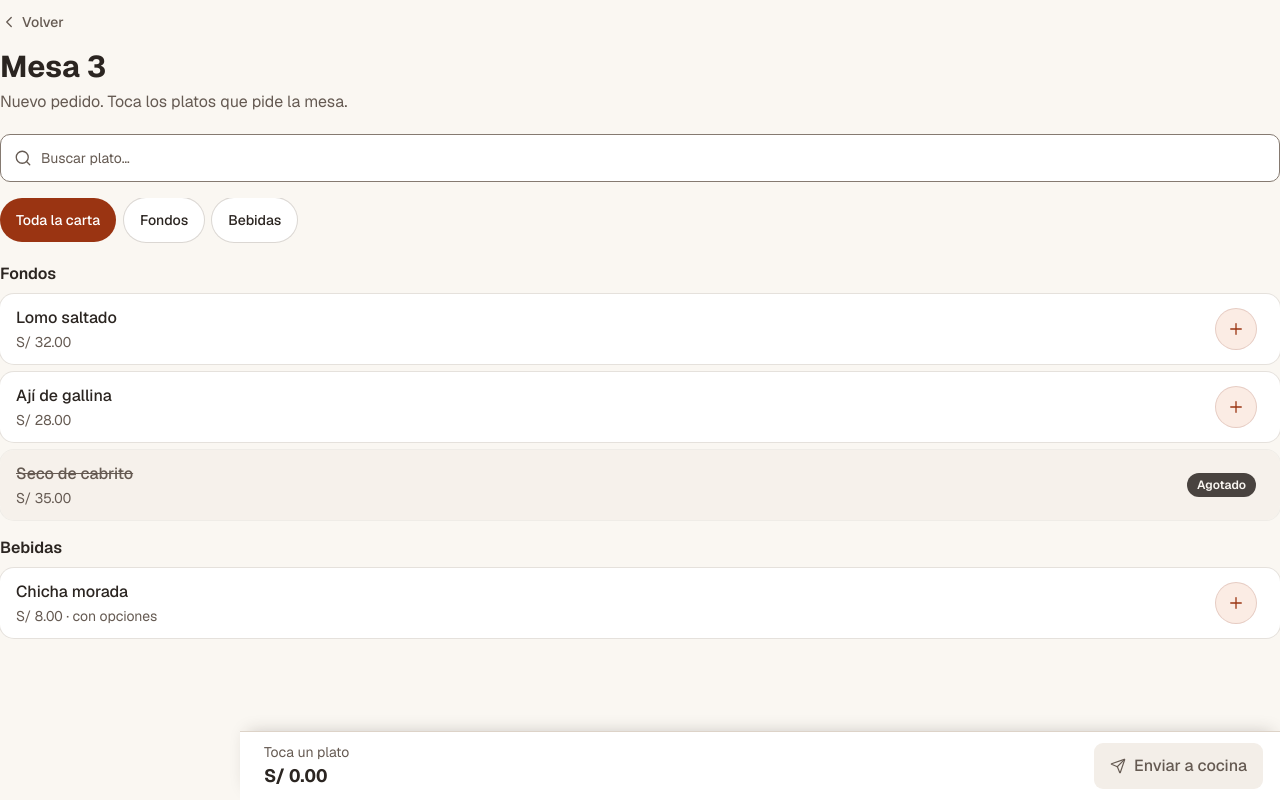
Test case: tomar un pedido en una mesa › sin señal, el pedido queda guardado en el celular para enviarse solo
Click the button "Lomo saltado S/ 32.00". click: (66, 317)
box: [0,294,1272,364]
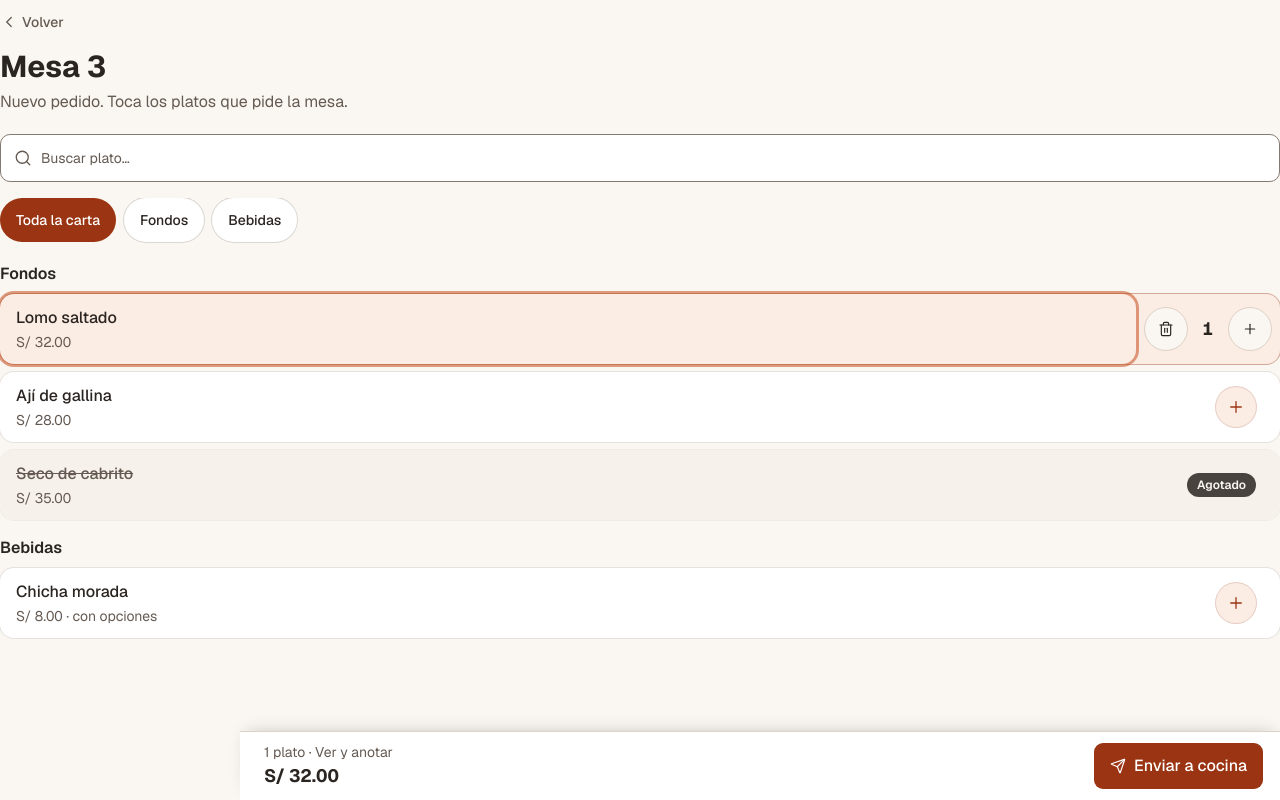
Click the button "Enviar a cocina". click: (1178, 766)
box: [1093,742,1264,790]
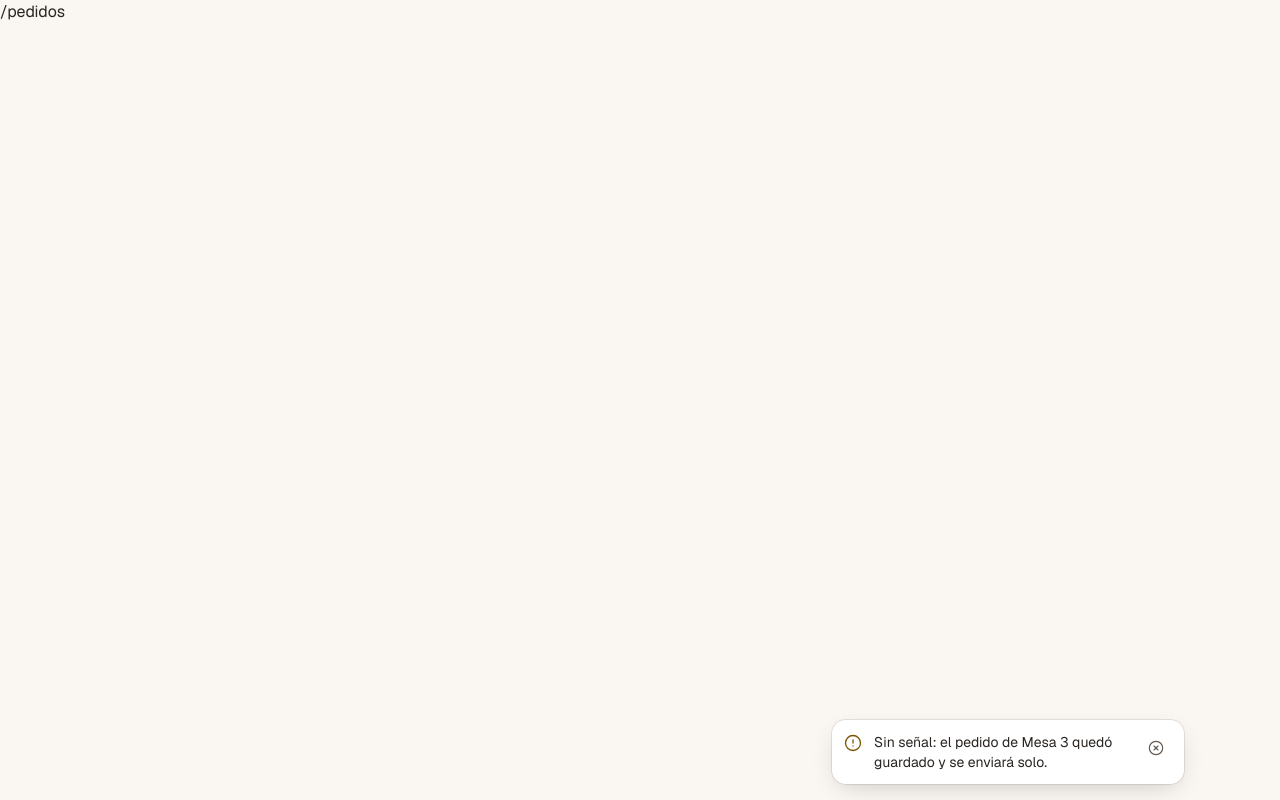
Expected: the text "Sin señal: el pedido de Mesa 3 quedó guardado y se enviará solo." is shown, [874,732,1128,772]
